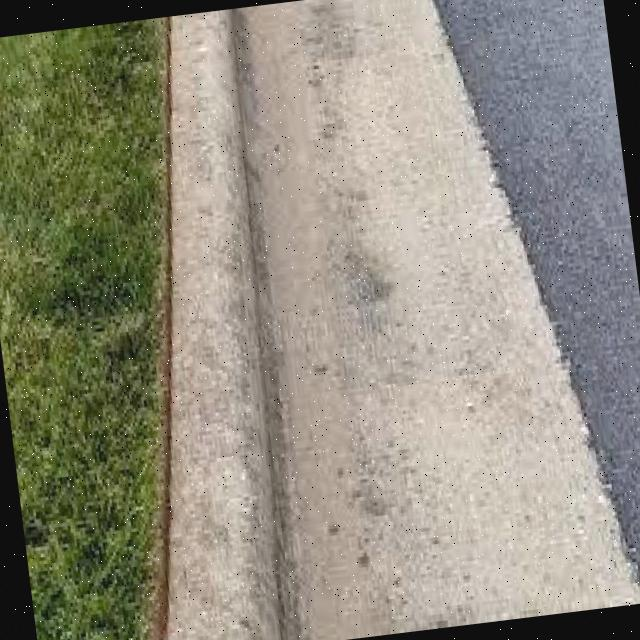curb: (138, 9, 290, 432), (136, 342, 297, 640)
